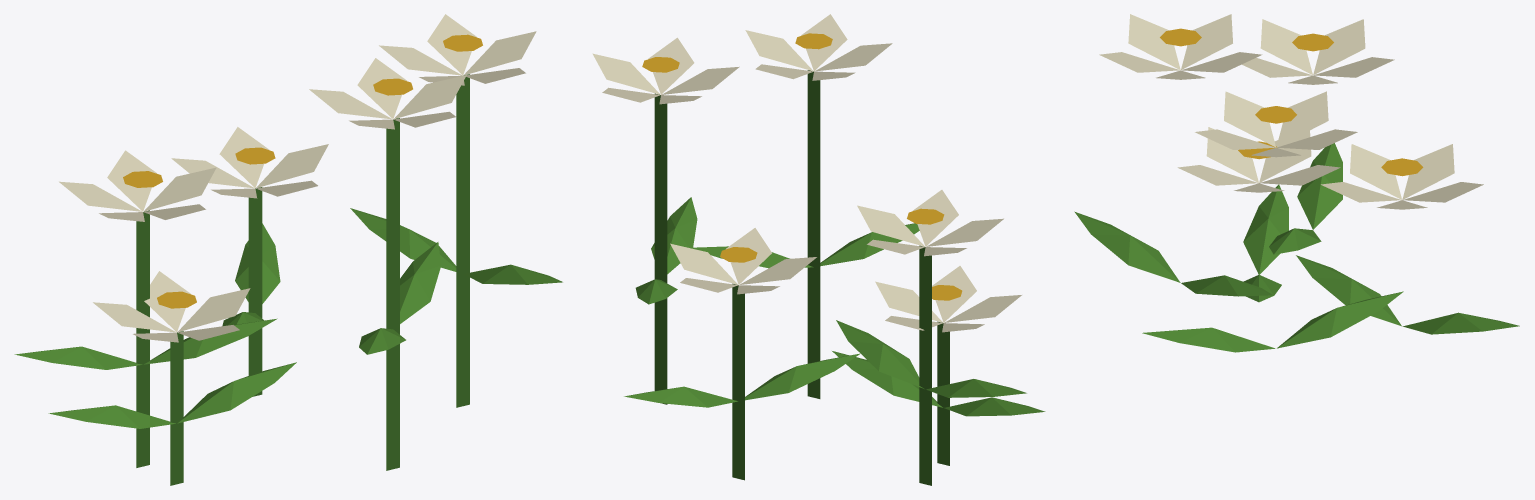
File: flowers-1.glb
3 renders of one model, left to right at view 1: azimuth 30°, elevation 25°; view 2: azimuth 150°, elevation 25°; view 3: azimuth 270°, elevation 25°, orthographic. The views are drawn at different scales.
Parts seen in each view (by area): view 1: flowers-1 export; view 2: flowers-1 export; view 3: flowers-1 export.
Boxes of the visible parts, <box> form: flowers-1 export: <box>14,14,562,485</box>; flowers-1 export: <box>592,14,1045,485</box>; flowers-1 export: <box>1074,14,1519,352</box>.
Size of the model in its own units: 0.8761 by 0.6469 by 0.6759.
